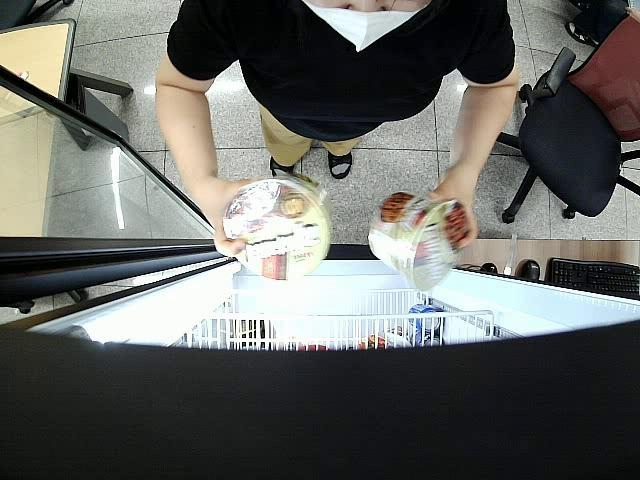03_chapagetti_L: (224, 173, 332, 280), (369, 192, 468, 290)
